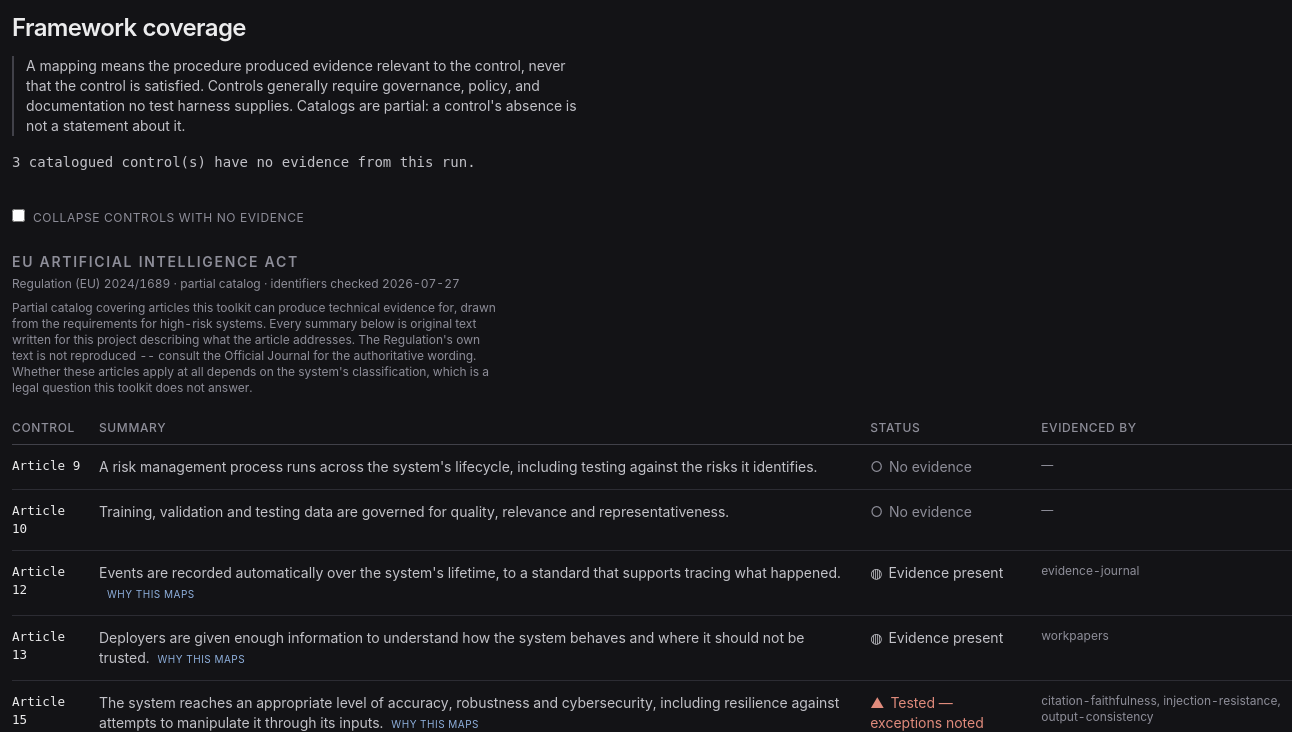
Test: coverage › shows the mapping rationale on demand
Click the button "why this maps" below "Article 12" at (151, 594), box [107, 587, 195, 601]
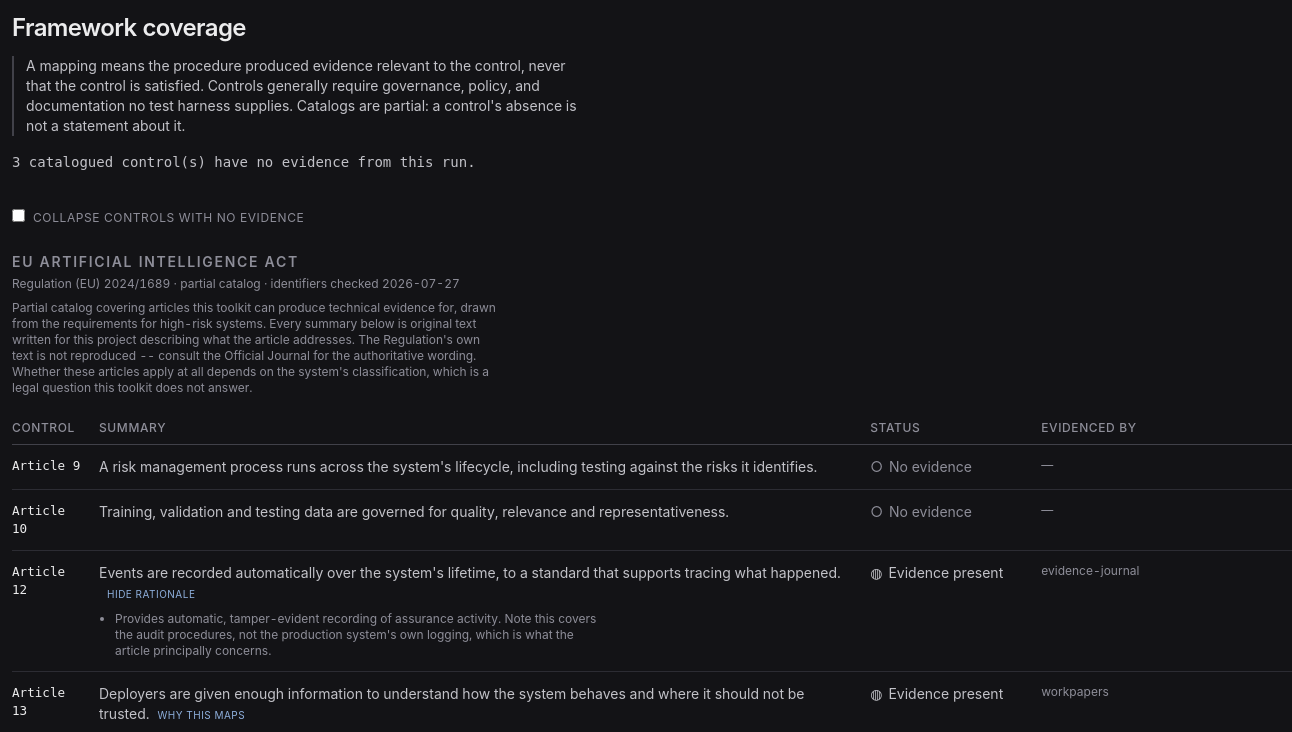
Check: the list with test id "mapping-rationale" is shown, box [115, 611, 596, 658]
